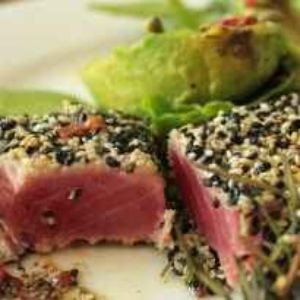tuna_brain food: (12, 102, 285, 282)
